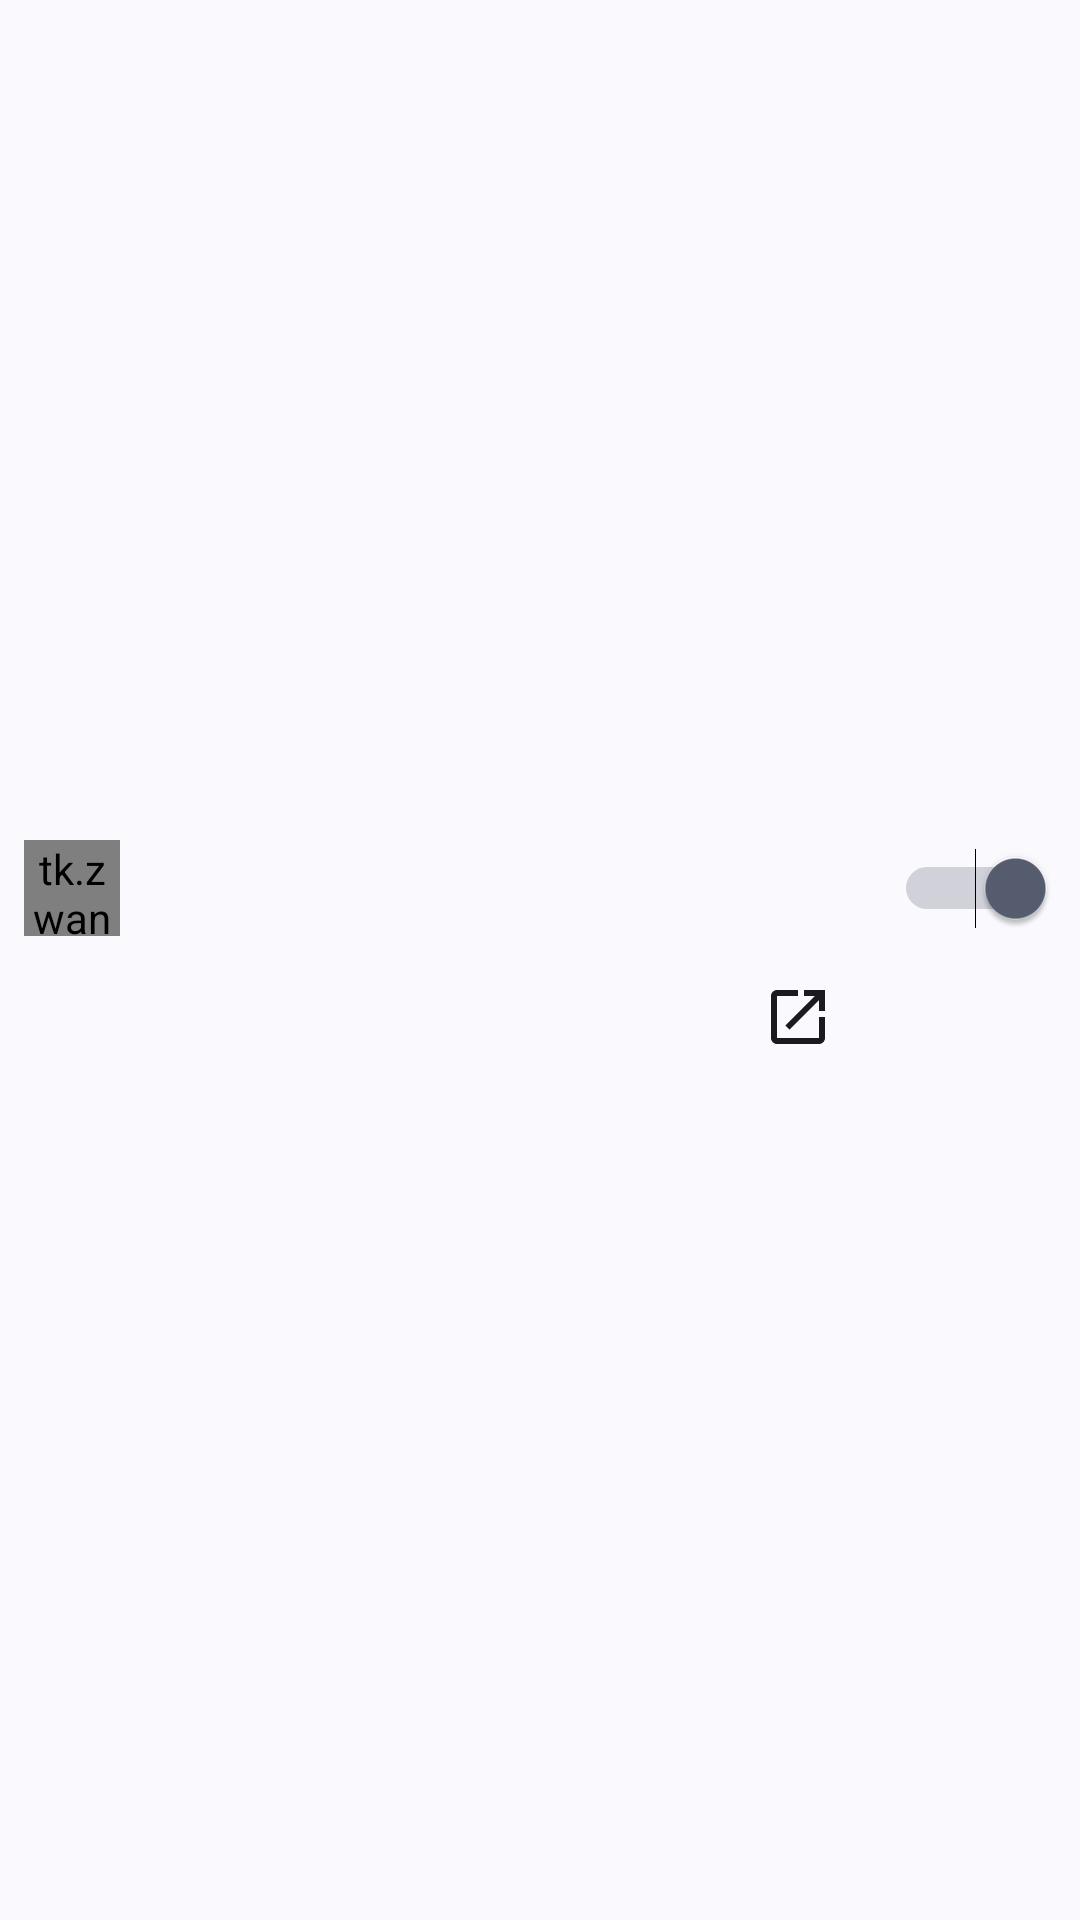

Locate icon controls on the screen. Image size 1080w x 1920h, boxes as (x1,y1,x2,y2).
Launch: (771,990,825,1044)
